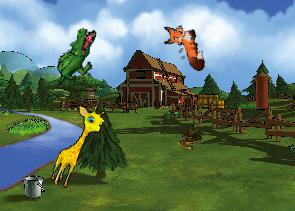crocodile: (55, 25, 97, 88)
fox: (160, 18, 207, 77)
giraffe: (47, 99, 109, 194)
